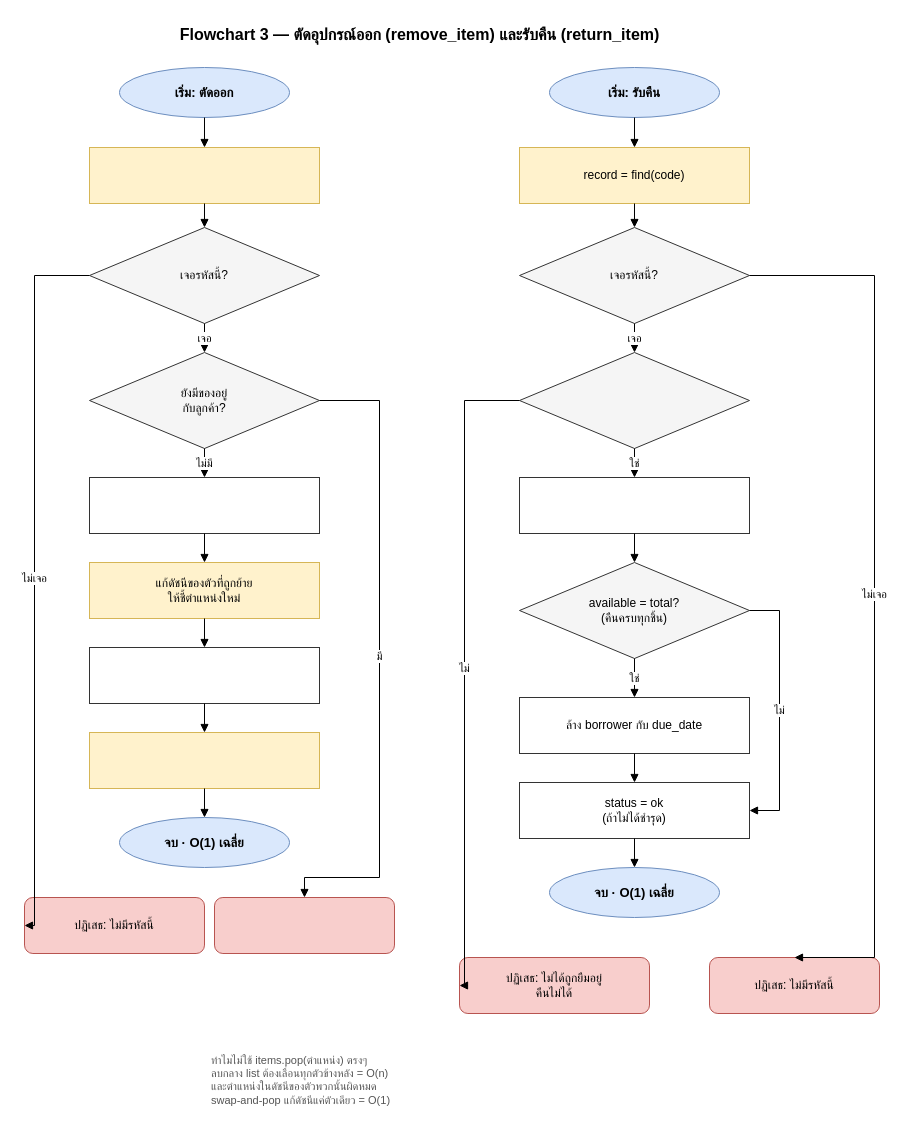
Some shapes in this 904 by 1144 pixel diagram are drawn without their labels. The centre of each missing label's shape, as x and y in pixels:
available + 1: (x=634, y=505)
available < total? (มีของถูกยืมอยู่): (x=634, y=400)
index.delete(code): (x=204, y=760)
items.pop() ตัดตัวท้าย: (x=204, y=675)
ตำแหน่ง = index.get(code): (x=204, y=175)
ปฏิเสธ: รับคืนก่อน จึงตัดออกได้: (x=304, y=925)
ยกตัวท้ายสุดของ list มาวางทับตำแหน่งนี้: (x=204, y=505)
